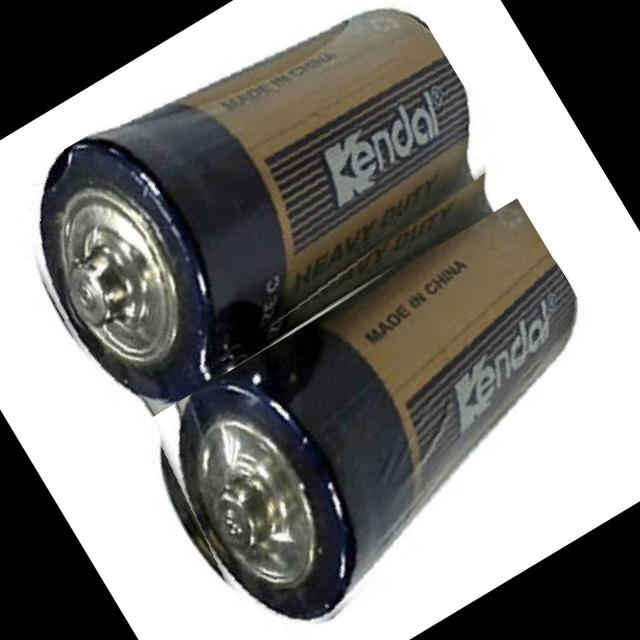Hazard: (126, 197, 640, 640), (0, 0, 526, 431)
